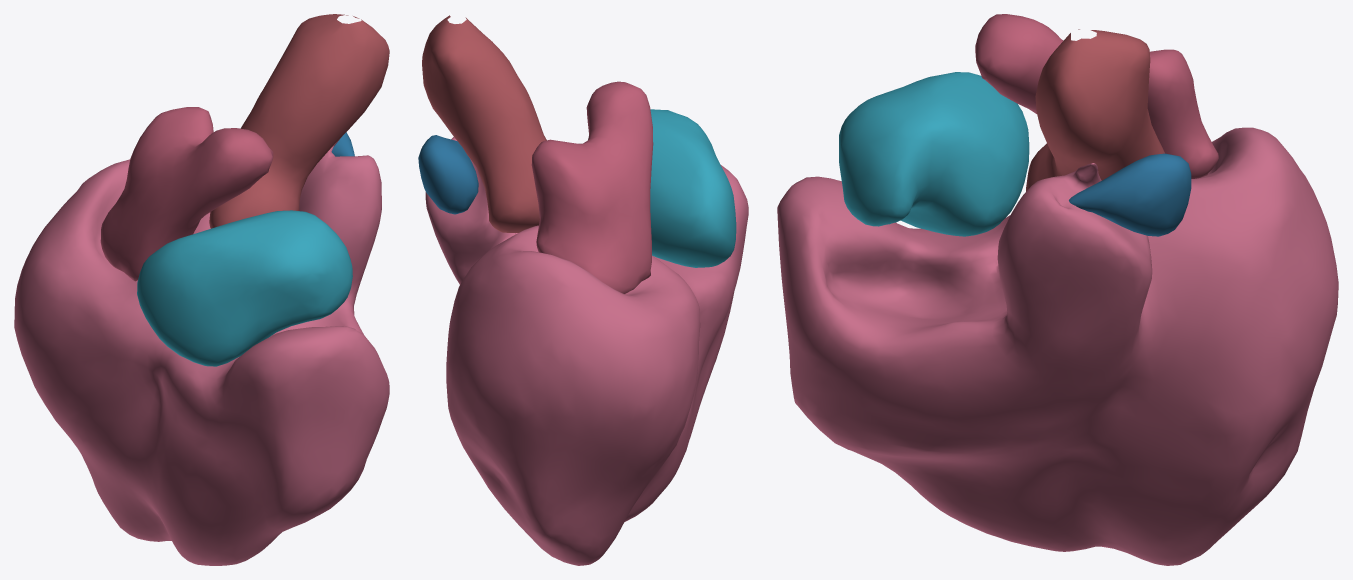
File: frame_8.glb
3 views of the same model, side by side, from view 1: azimuth 30°, elevation 25°; view 2: azimuth 150°, elevation 25°; view 3: azimuth 270°, elevation 25° (orthographic). The views are drawn at different scales.
Parts seen in each view (by area): view 1: Renderer Node; view 2: Renderer Node; view 3: Renderer Node.
Part boxes in pixels (left/top/right/bottom): Renderer Node: left=14, top=14, right=389, bottom=565; Renderer Node: left=418, top=15, right=748, bottom=565; Renderer Node: left=777, top=14, right=1338, bottom=565.
Bounding box in the file's own units: 102 × 159 × 130.
